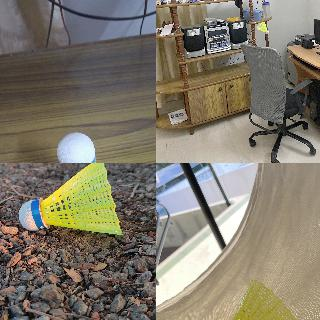shuttlecock: (18, 163, 123, 235), (212, 279, 296, 319), (47, 132, 121, 162), (256, 21, 268, 33)
